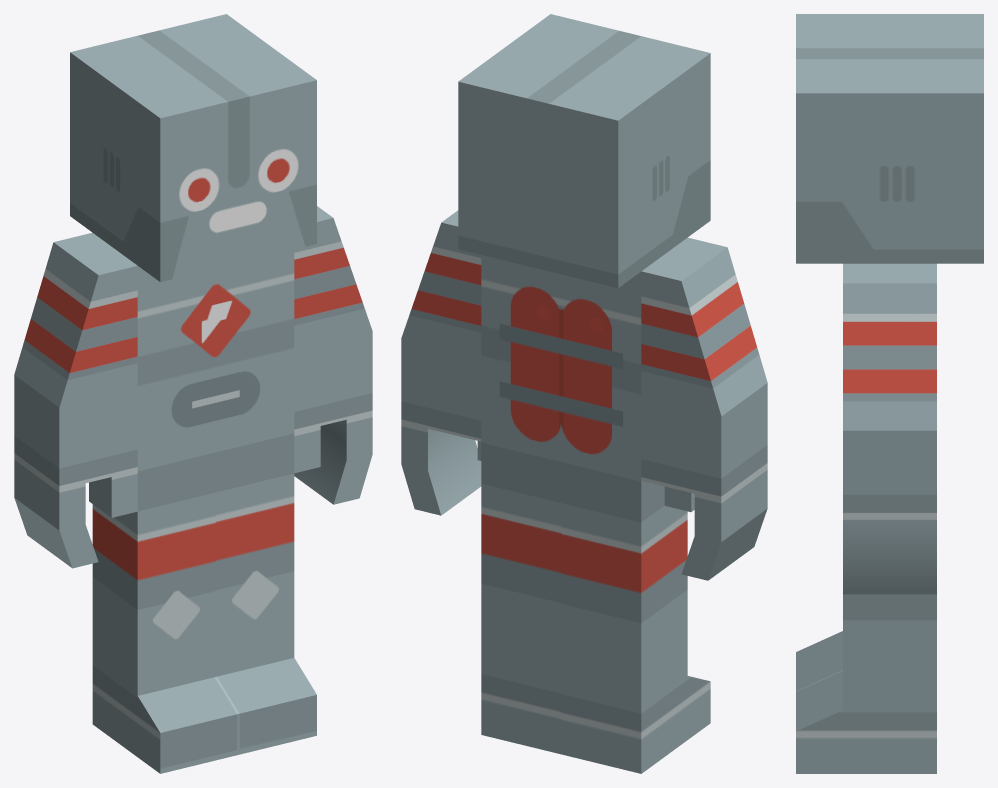
Rendered from robot.glb.
3 renders of one model, left to right at view 1: azimuth 30°, elevation 25°; view 2: azimuth 150°, elevation 25°; view 3: azimuth 270°, elevation 25°, orthographic. The views are drawn at different scales.
Parts seen in each view (by area): view 1: Head1, Body1, ArmRight1, LegRight1, LegLeft1, ArmLeft1; view 2: Head1, Body1, ArmRight1, LegRight1, LegLeft1, ArmLeft1; view 3: Head1, ArmLeft1, LegLeft1, LegRight1.
Part boxes in pixels (left/top/right/bottom): Head1: left=70, top=14, right=316, bottom=282; Body1: left=137, top=249, right=294, bottom=511; ArmRight1: left=14, top=232, right=137, bottom=568; LegRight1: left=92, top=492, right=238, bottom=773; LegLeft1: left=216, top=473, right=316, bottom=754; ArmLeft1: left=294, top=206, right=372, bottom=504; Head1: left=458, top=14, right=710, bottom=287; Body1: left=481, top=255, right=664, bottom=522; ArmRight1: left=641, top=237, right=767, bottom=580; LegRight1: left=561, top=503, right=710, bottom=773; LegLeft1: left=481, top=483, right=561, bottom=754; ArmLeft1: left=401, top=210, right=481, bottom=515; Head1: left=796, top=14, right=983, bottom=263; ArmLeft1: left=843, top=263, right=936, bottom=594; LegLeft1: left=796, top=594, right=936, bottom=773; LegRight1: left=796, top=631, right=842, bottom=691.
Size of the model in its own units: 8 by 16 by 4.
1 material, 1 textured.
